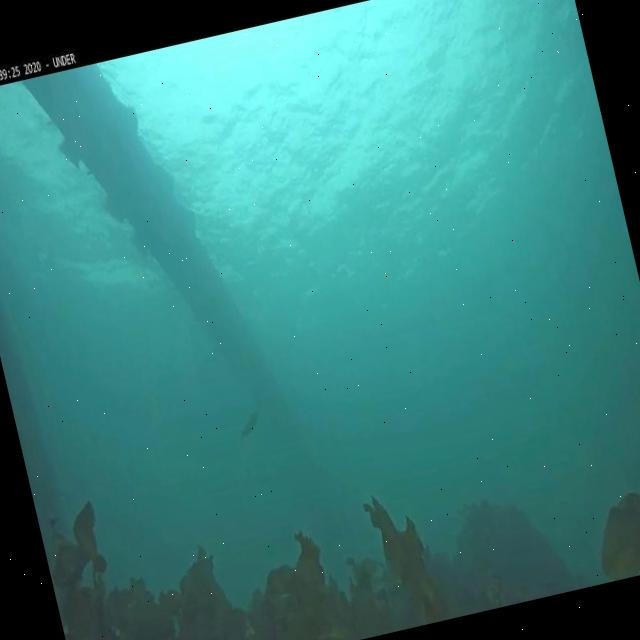fish: (236, 410, 264, 441)
